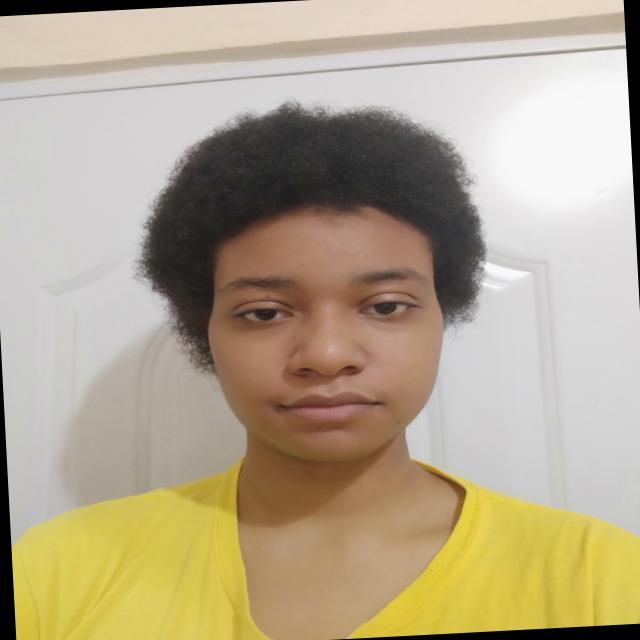eyebrow: (354, 267, 429, 283), (224, 276, 297, 291)
